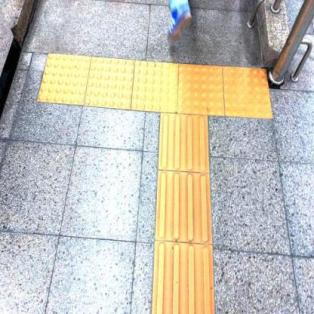Podoctatil: (43, 59, 276, 115), (152, 118, 210, 312)
